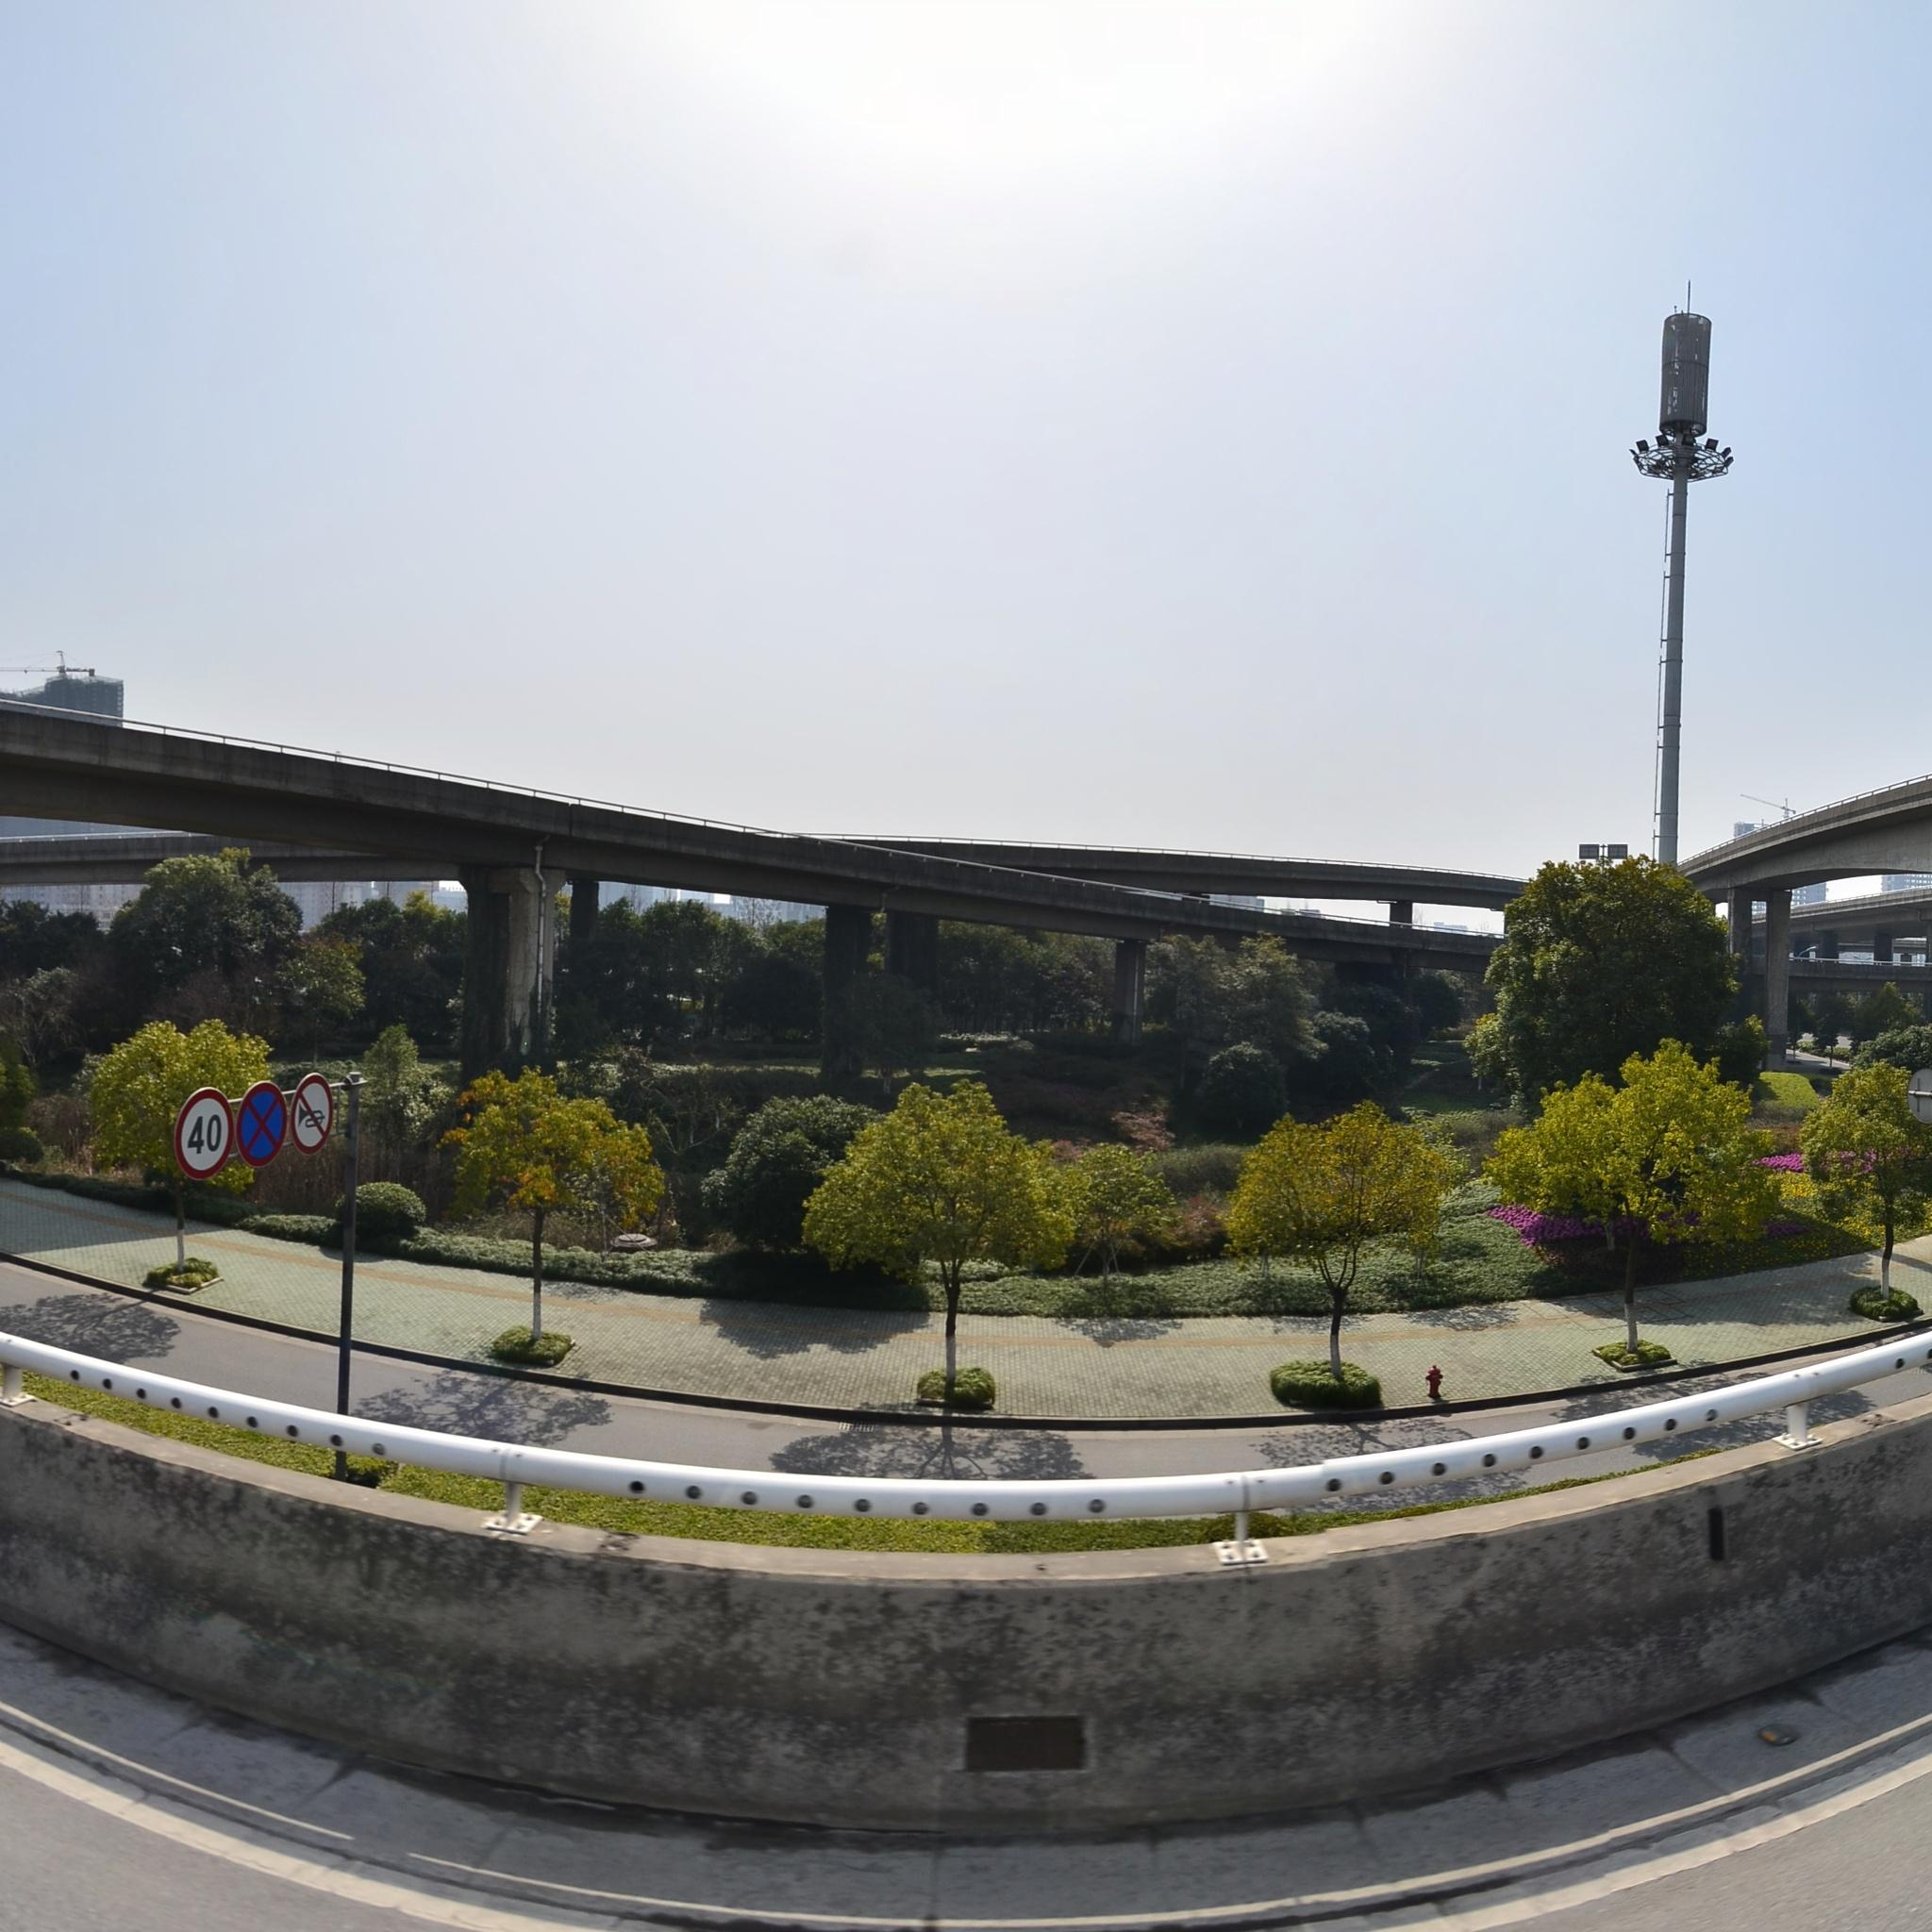p11: (292, 1076, 333, 1154)
pl40: (175, 1086, 232, 1180)
pn: (237, 1081, 288, 1168)
